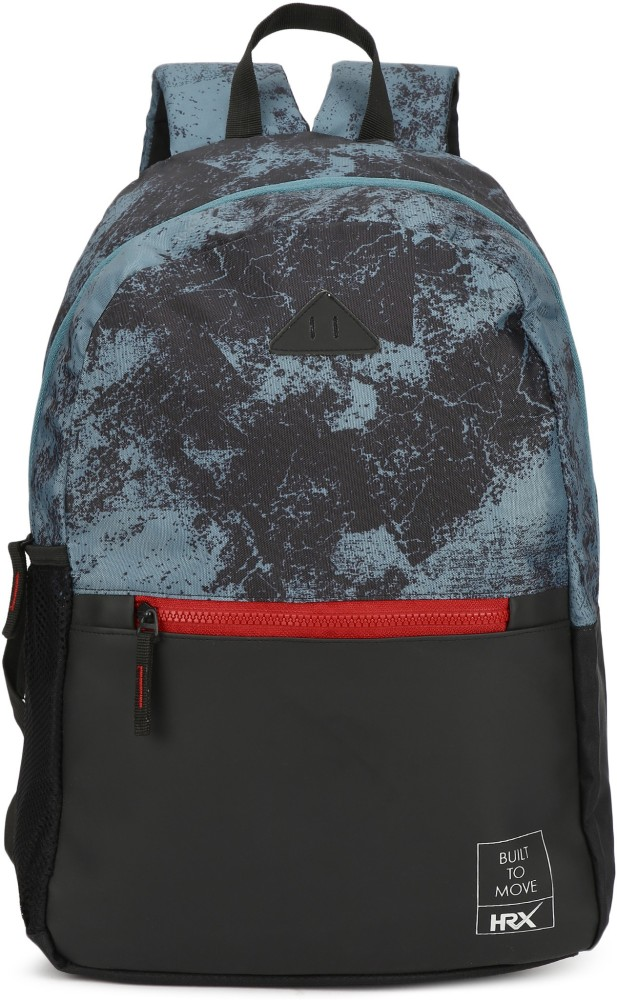backpack: (2, 2, 613, 987)
